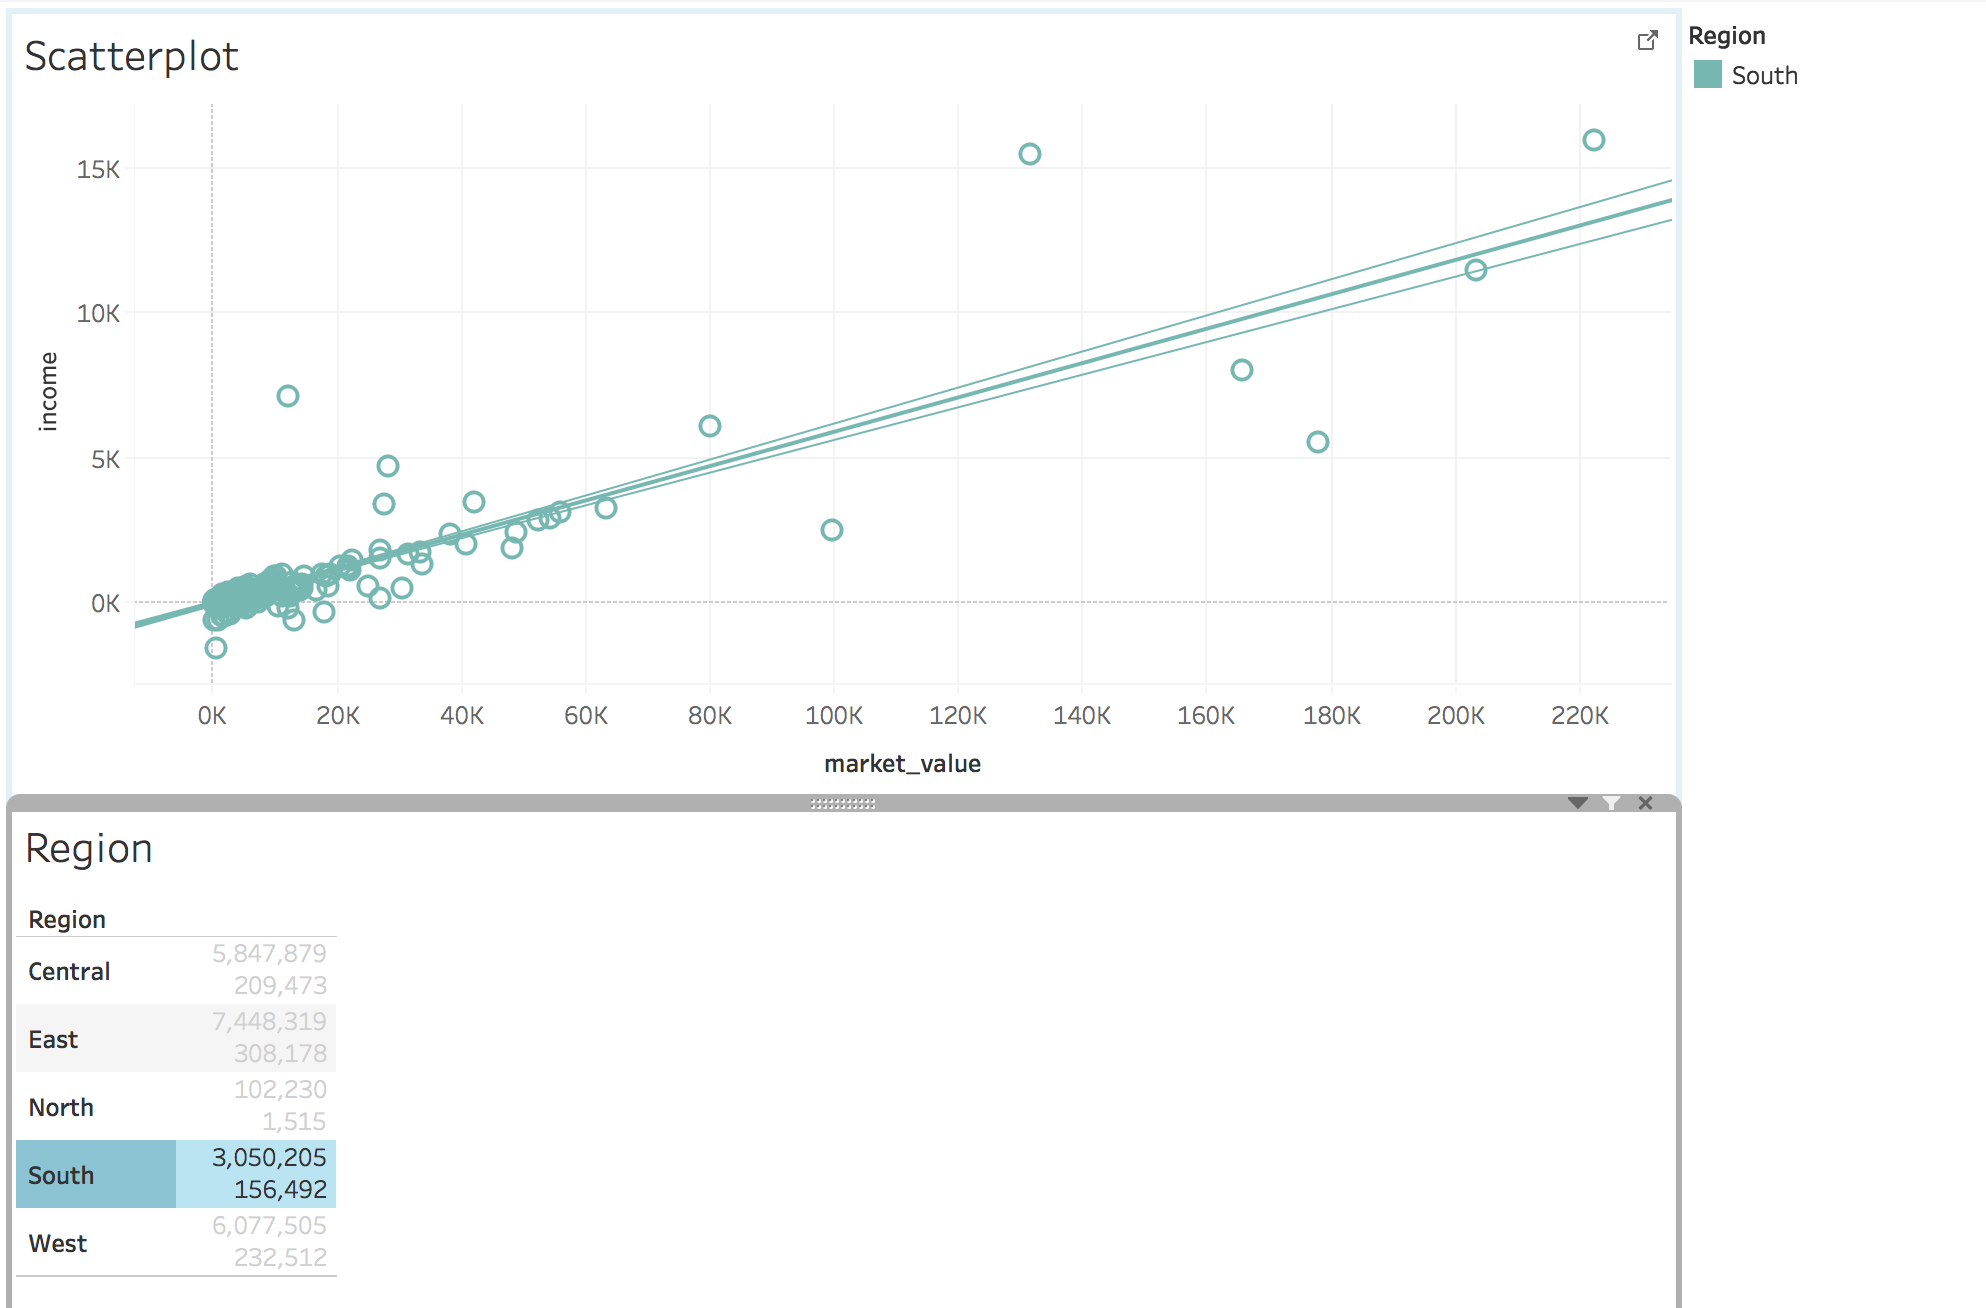

The dashboard page shown, as its layout file describes it:
{"tool":"tableau","page":{"name":"Dashboard","canvas":[1000,800],"ordinal":0},"visuals":[{"type":"worksheet","title":"Scatterplot","mark":"Automatic","rows":["v_8"],"cols":["v_14"],"box":[0,0,840,400]},{"type":"legend","title":"Scatterplot","param":"[federated.09xwelj0bzqzvf1bfoy841itga37].[none:v_0 (Region):nk]","box":[840,0,160,50]},{"type":"worksheet","title":"Region","mark":"Automatic","rows":["v_0 (Region)"],"box":[0,400,840,400]}]}

Visuals, with their boxes on the page's 1000x800 design canvas (x1, y1, x2, y2). These are canvas units, not pixel positions in the 1986x1308 screenshot, which may show the page scaled, cropped or inside an application window:
"Scatterplot" worksheet: l=0, t=0, r=840, b=400
"Scatterplot" legend: l=840, t=0, r=1000, b=50
"Region" worksheet: l=0, t=400, r=840, b=800
